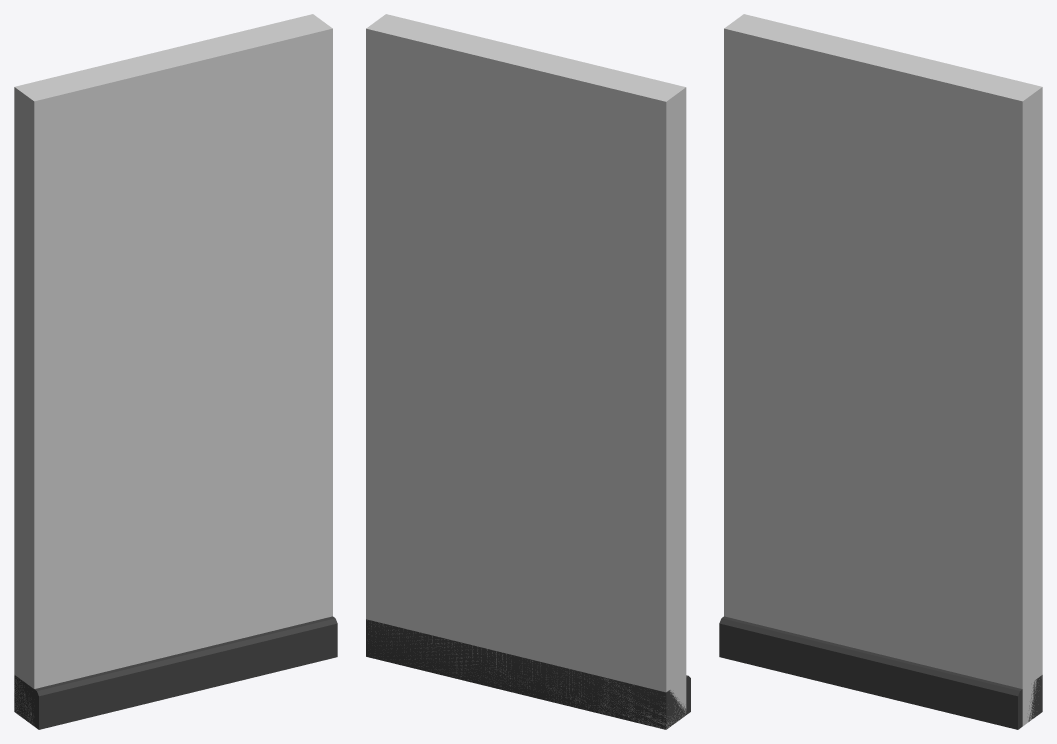
File: Kinder3_Wall_Half.fbx
The picture shows the model from 3 angles, left to right: view 1: azimuth 30°, elevation 25°; view 2: azimuth 150°, elevation 25°; view 3: azimuth 330°, elevation 25°; orthographic projection.
Visible parts, largest first — view 1: WallFloor2_01__6_.004, WallFloor2_01__6_.003; view 2: WallFloor2_01__6_.004, WallFloor2_01__6_.003; view 3: WallFloor2_01__6_.004, WallFloor2_01__6_.003.
Part boxes in pixels (x1,y1,x2,y2): WallFloor2_01__6_.004: (14,14,332,725); WallFloor2_01__6_.003: (14,616,337,729); WallFloor2_01__6_.004: (366,14,686,729); WallFloor2_01__6_.003: (366,619,690,729); WallFloor2_01__6_.004: (724,14,1042,725); WallFloor2_01__6_.003: (719,616,1042,729).
Bounding box in the file's own units: 125 × 250 × 17.83.
